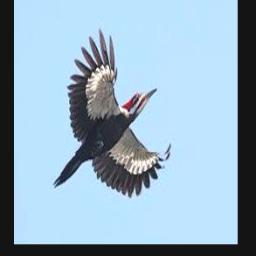Woodpecker: (53, 28, 171, 197)
